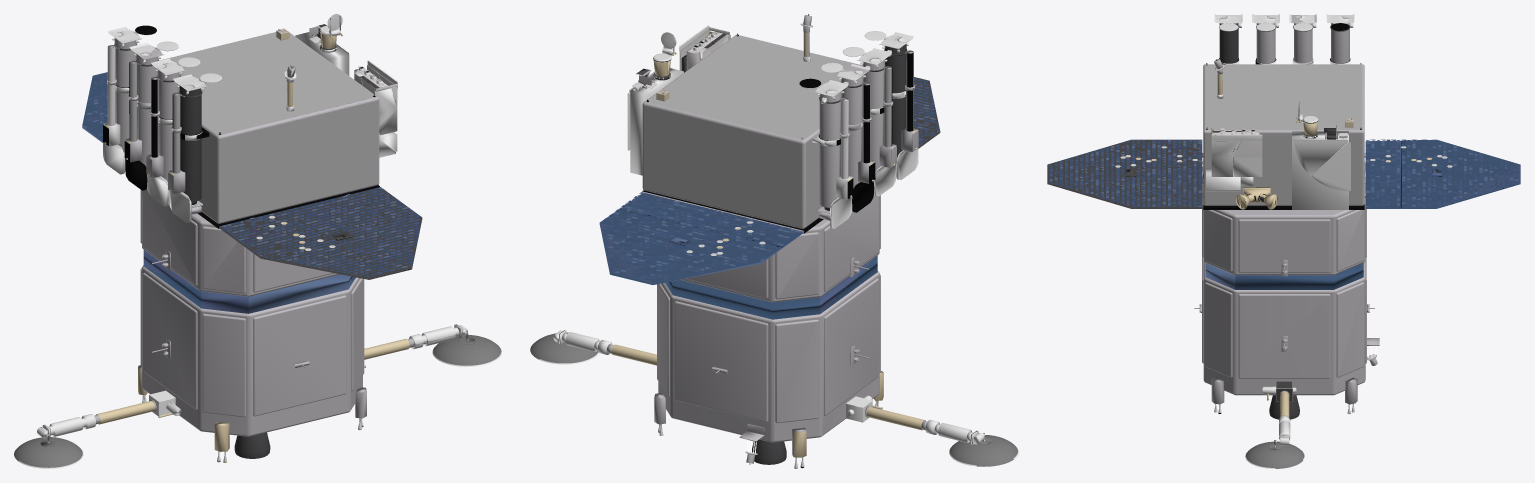
The model's file is solar-dynamics-observatory.glb.
The picture shows the model from 3 angles, left to right: view 1: azimuth 30°, elevation 25°; view 2: azimuth 150°, elevation 25°; view 3: azimuth 270°, elevation 25°; orthographic projection. The views are drawn at different scales.
Parts seen in each view (by area): view 1: Fake; view 2: Fake; view 3: Fake.
Boxes of the visible parts, x1,y1,x2,y2 form: Fake: [14, 14, 501, 468]; Fake: [530, 14, 1018, 468]; Fake: [1047, 14, 1520, 468].
Size of the model in its own units: 37.02 by 30.75 by 37.03.
